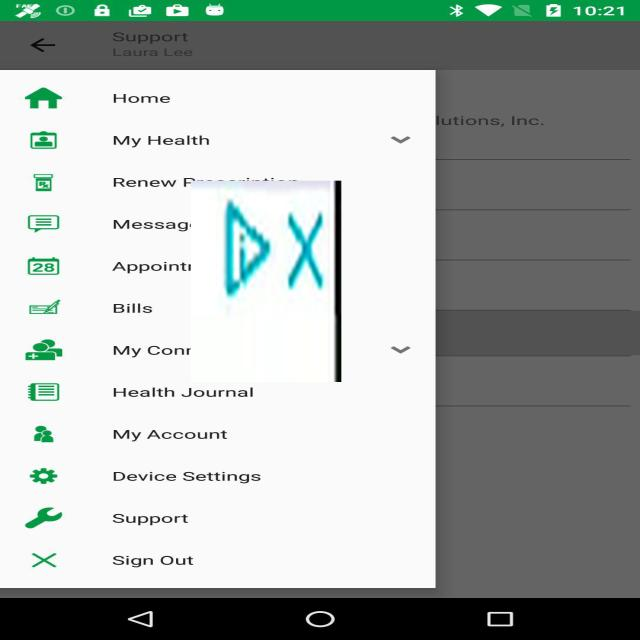sneaking: (191, 181, 341, 382)
